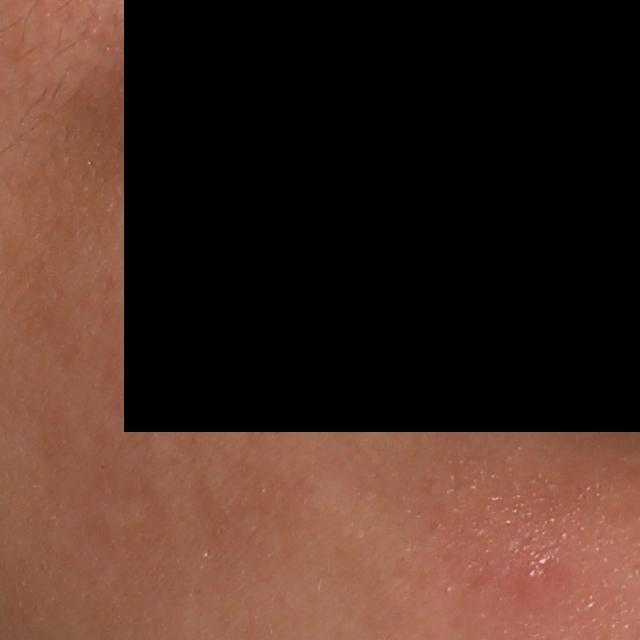papule: (512, 557, 556, 600)
